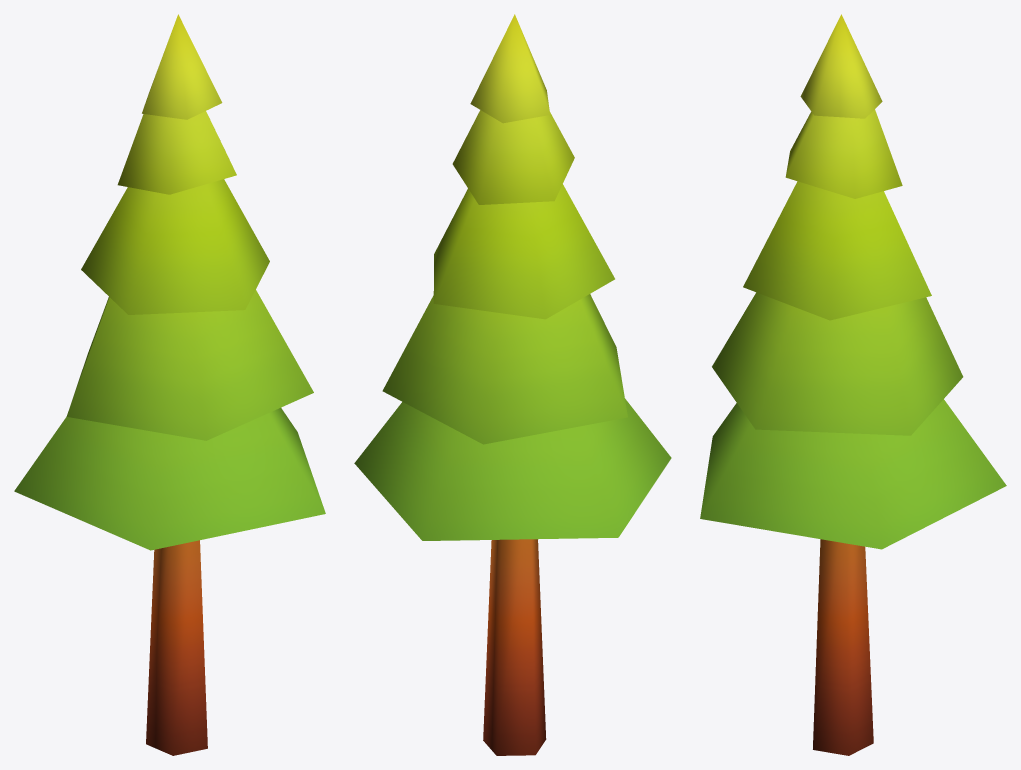
Rendered from agac_2.fbx.
The picture shows the model from 3 angles, left to right: view 1: azimuth 30°, elevation 25°; view 2: azimuth 150°, elevation 25°; view 3: azimuth 270°, elevation 25°; orthographic projection.
Visible parts, largest first — view 1: agaç_1; view 2: agaç_1; view 3: agaç_1.
Part boxes in pixels (<box>): agaç_1: <box>14,14,325,755</box>; agaç_1: <box>354,14,671,755</box>; agaç_1: <box>700,14,1006,755</box>.
Bounding box in the file's own units: 422 × 1073 × 410.
1 material, 1 textured.
